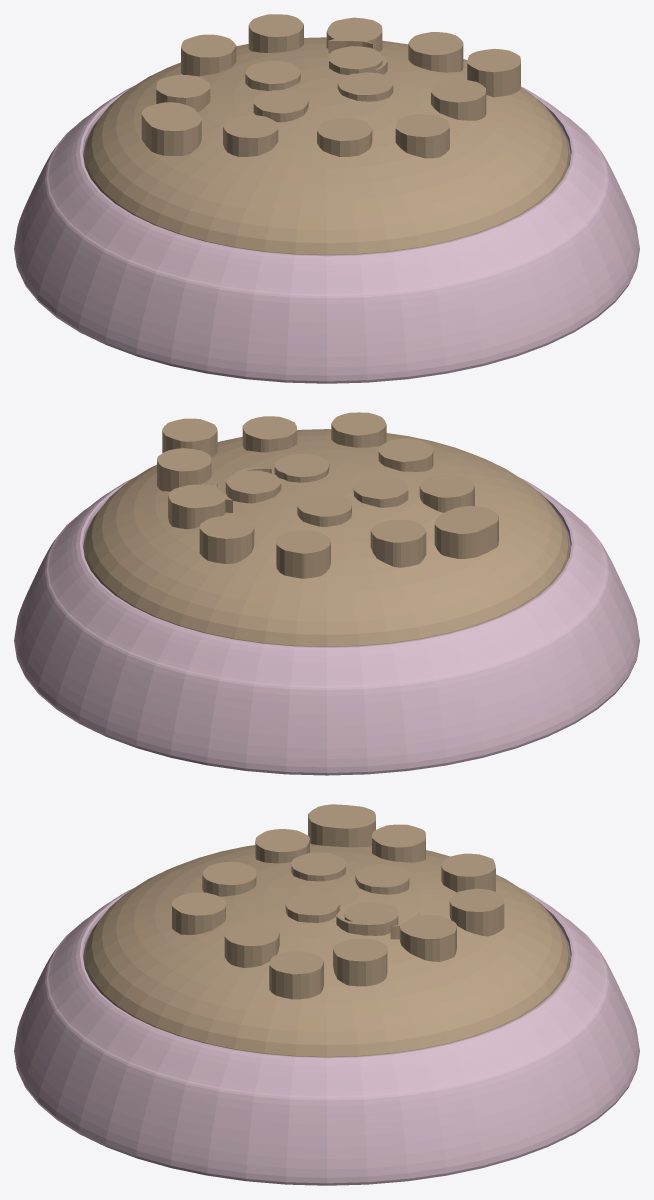
The model's file is Funky Allis.glb.
3 renders of one model, top to bottom at view 1: azimuth 30°, elevation 25°; view 2: azimuth 150°, elevation 25°; view 3: azimuth 270°, elevation 25°, orthographic.
Parts seen in each view (by area): view 1: Mesh_Mesh_head_geo.001_lambert2SG.001; view 2: Mesh_Mesh_head_geo.001_lambert2SG.001; view 3: Mesh_Mesh_head_geo.001_lambert2SG.001.
Boxes of the visible parts, x1,y1,x2,y2 form: Mesh_Mesh_head_geo.001_lambert2SG.001: [14, 14, 639, 383]; Mesh_Mesh_head_geo.001_lambert2SG.001: [14, 412, 639, 775]; Mesh_Mesh_head_geo.001_lambert2SG.001: [14, 804, 639, 1185].
Size of the model in its own units: 0.0283 by 0.00825 by 0.0283.
